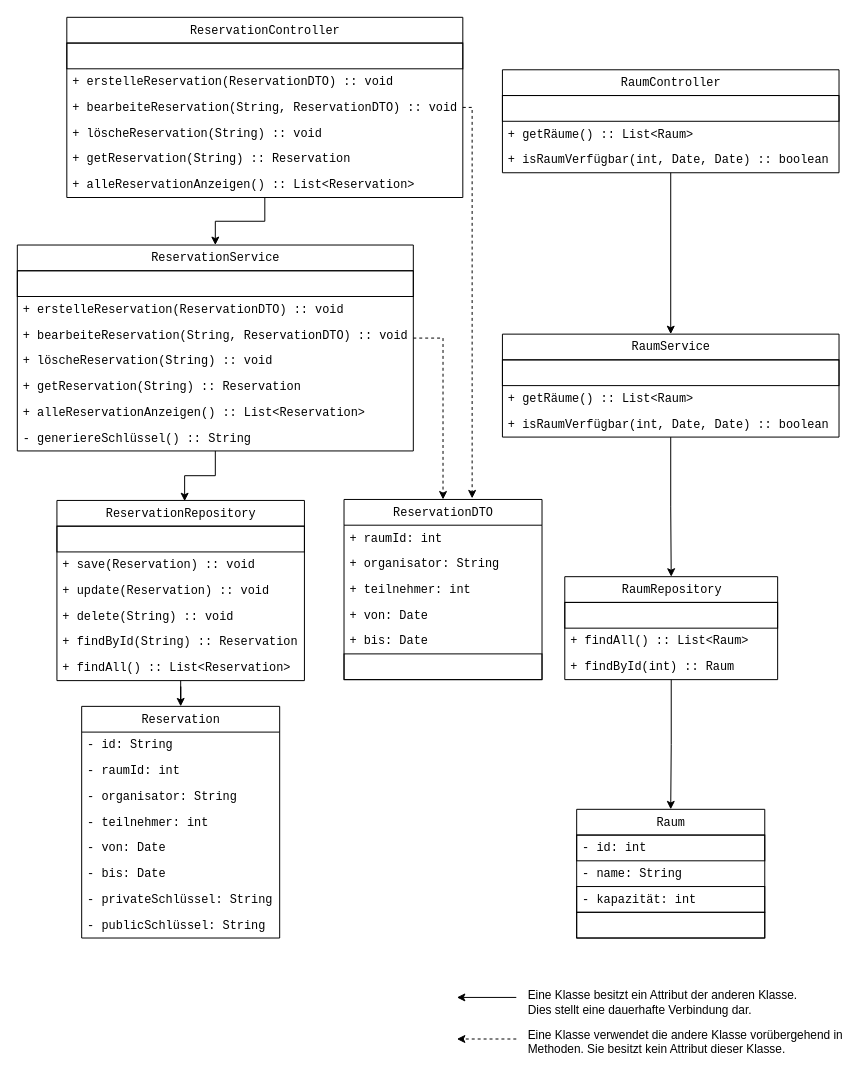
This 866x1074 diagram has some shape labels left out. Each missing label, with the centre of its shape:
"- raumRepository: RaumRepository" goes at pixel 670 372.
"- raumService: RaumService" goes at pixel 670 108.
"- reservationRepository: ReservationRepository" goes at pixel 214 283.
"- reservationService: ReservationService" goes at pixel 264 55.
